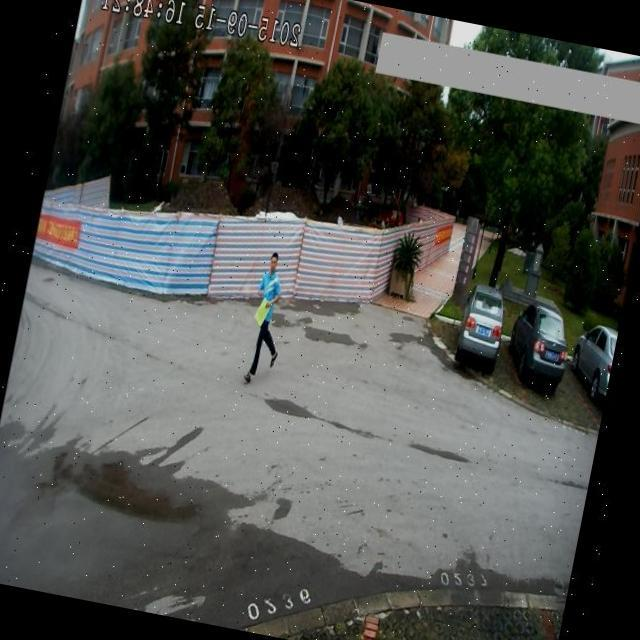person: (238, 245, 296, 393)
